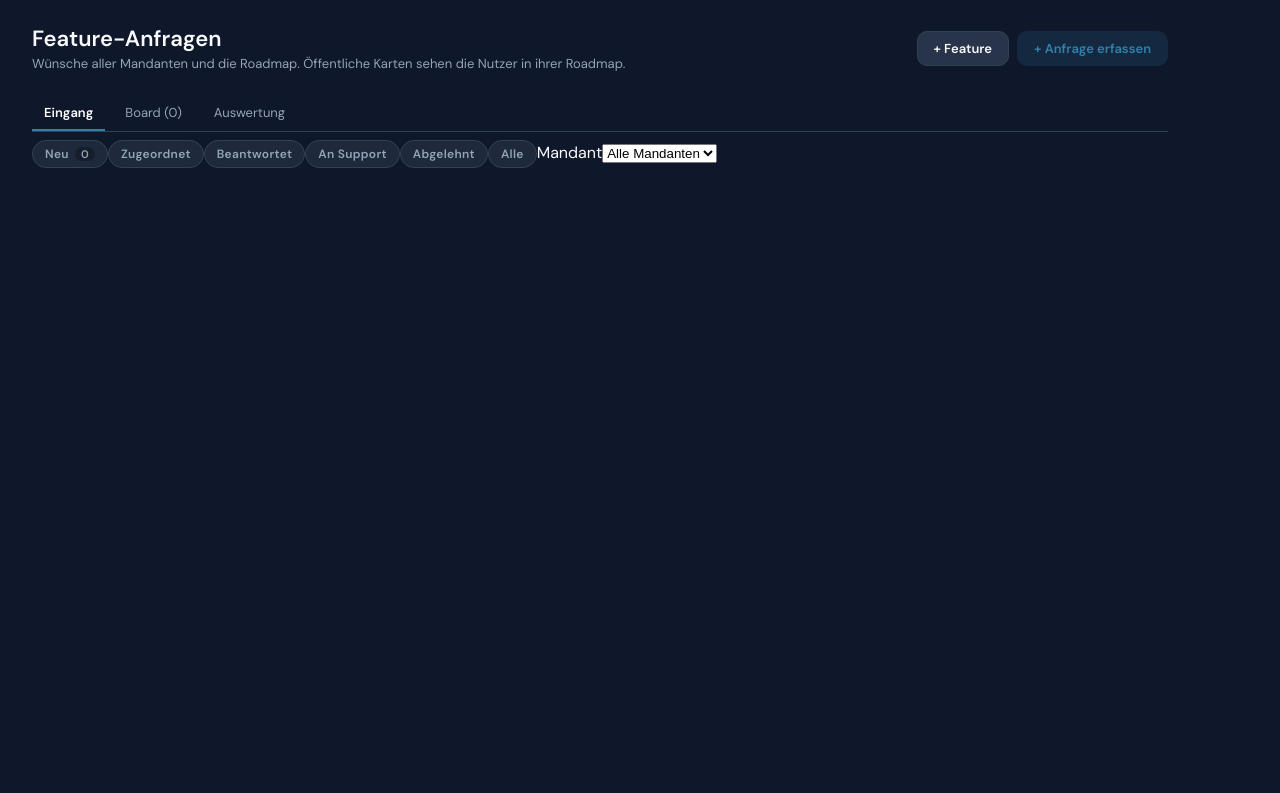
Scenario: Auswertung › «je aktivem Konto» ohne Konten: kein Quotient
What coordinates should you click on to do the following:
click the tab "Auswertung"
I would click on:
 (249, 114)
Its box is top-left (202, 96), bottom-right (297, 131).
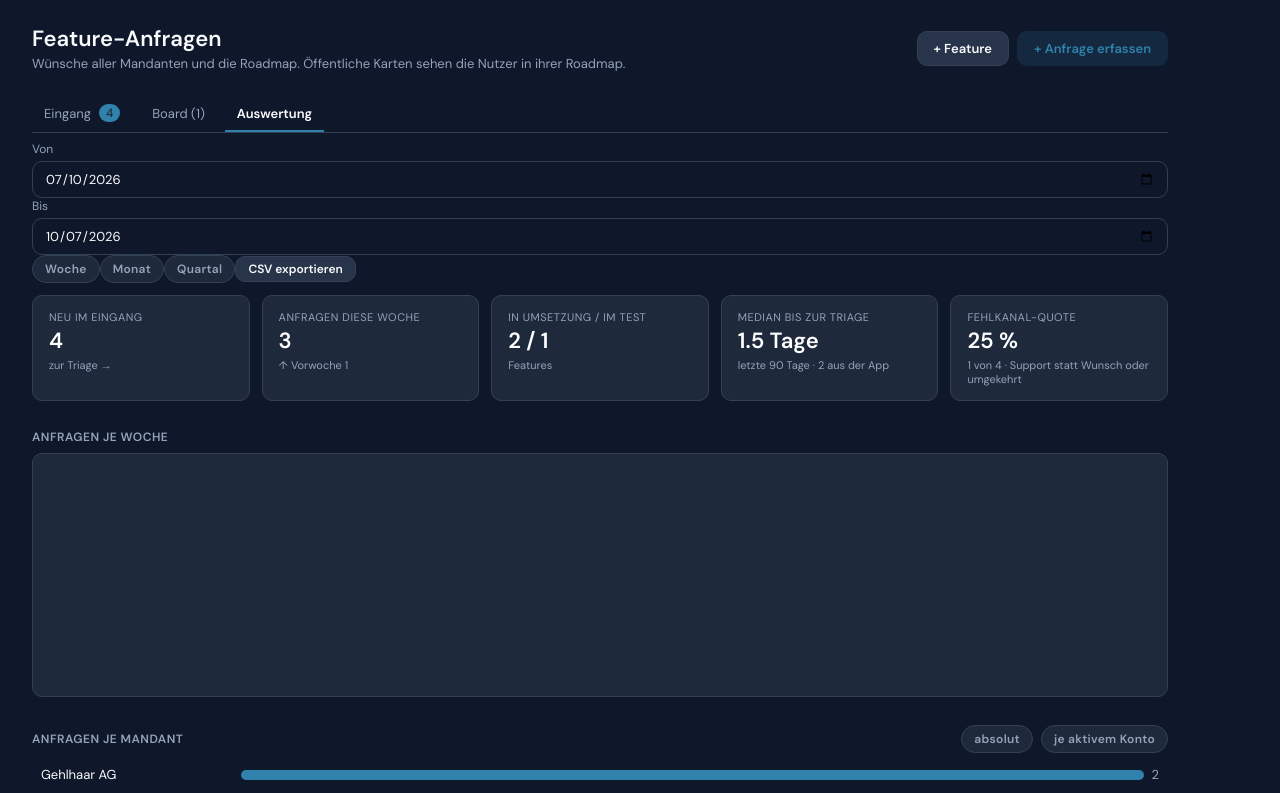
Now the text "Fehlkanal-Quote" is shown, box top-left (967, 310), bottom-right (1076, 324)
What coordinates should you click on to do the following:
click the button "je aktivem Konto"
I would click on:
 (1104, 739)
Its box is top-left (1041, 725), bottom-right (1168, 753).
(page scrolled)
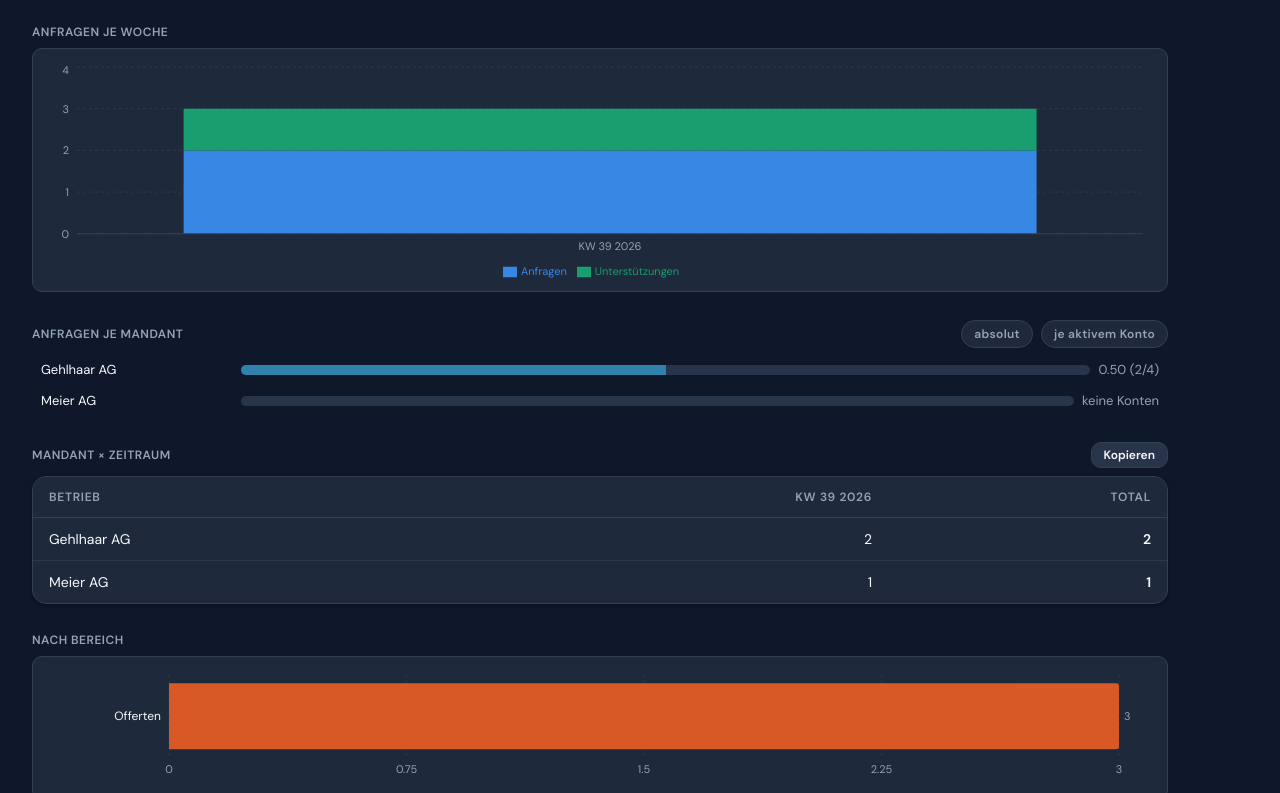
Now the text "0.50 (2/4)" is shown, box top-left (1098, 361), bottom-right (1159, 378)
Now the text "keine Konten" is shown, box top-left (1082, 392), bottom-right (1159, 409)
